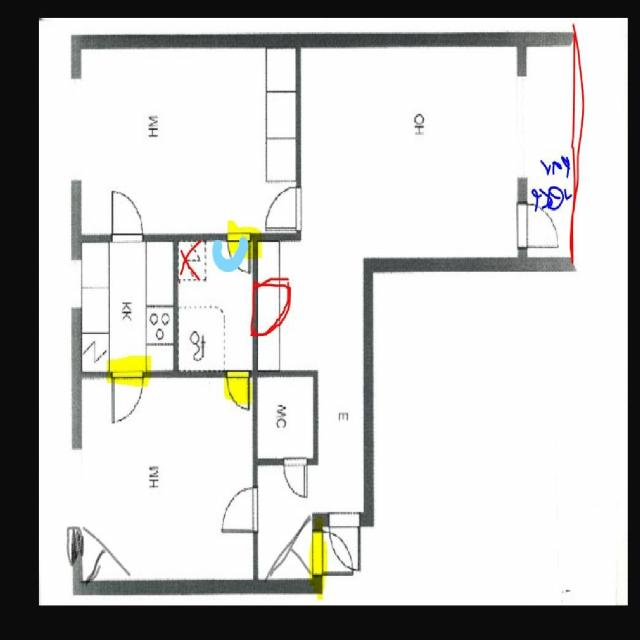door: (253, 285, 293, 335), (263, 183, 301, 230), (112, 187, 144, 241), (328, 513, 359, 568), (222, 488, 258, 531), (518, 206, 556, 246), (284, 457, 308, 498)
